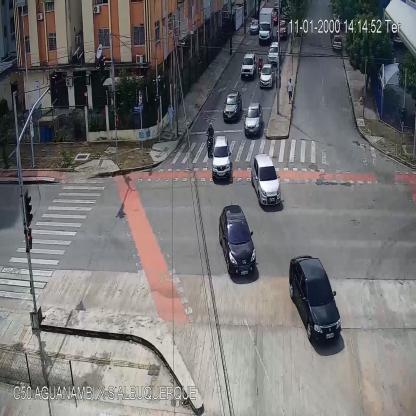car: (289, 256, 341, 343), (219, 205, 256, 278), (252, 156, 283, 208), (212, 136, 232, 181), (244, 103, 262, 136), (224, 91, 240, 122), (241, 53, 254, 80), (259, 65, 272, 91), (276, 19, 288, 40), (268, 42, 279, 62), (250, 18, 260, 34), (333, 35, 341, 49)
motorbike: (206, 123, 214, 159), (258, 58, 262, 77)
person: (167, 102, 174, 133), (287, 77, 293, 106), (360, 86, 365, 106)
truck: (259, 7, 274, 42)
